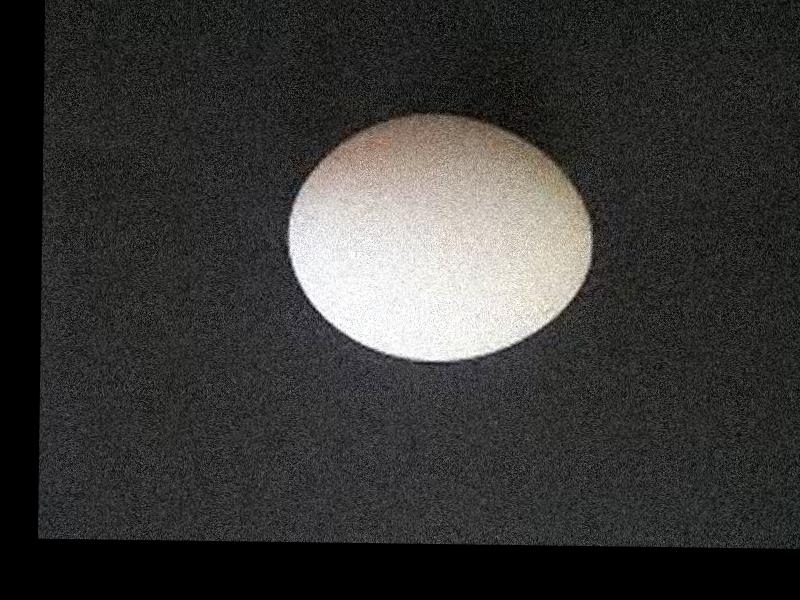Eggs: (294, 114, 597, 363)
